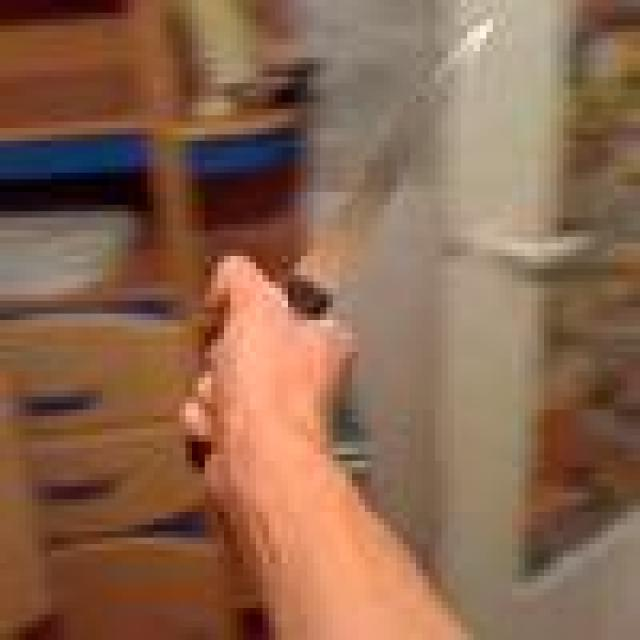knife: (290, 7, 494, 300)
